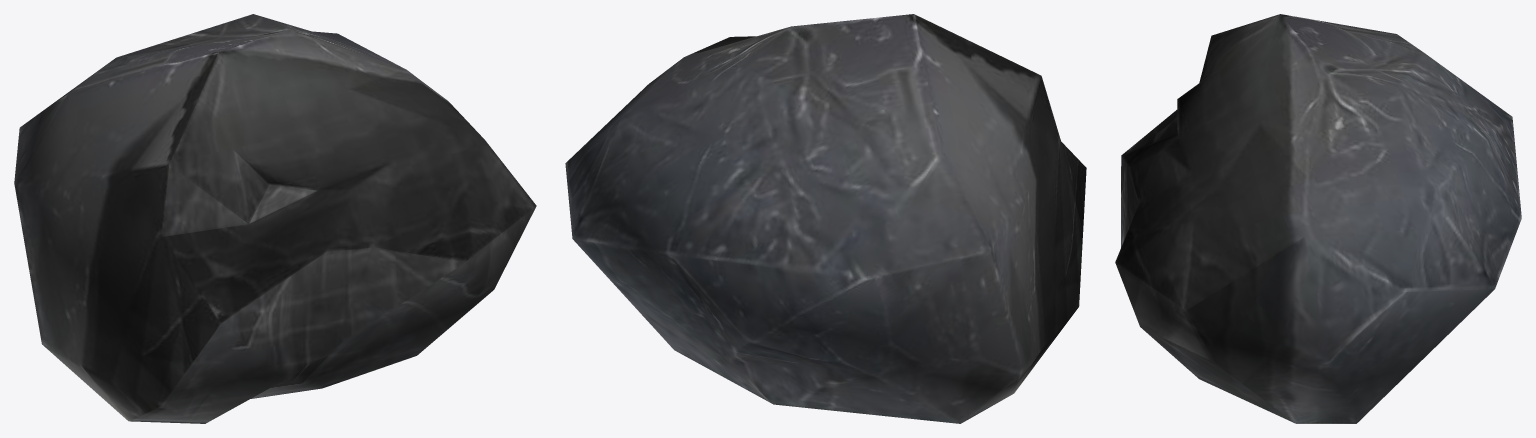
File: rock-chunk-small.glb
3 renders of one model, left to right at view 1: azimuth 30°, elevation 25°; view 2: azimuth 150°, elevation 25°; view 3: azimuth 270°, elevation 25°, orthographic. The views are drawn at different scales.
Bounding box in the file's own units: 1.98 × 1.57 × 1.78.
1 material, 1 textured.
